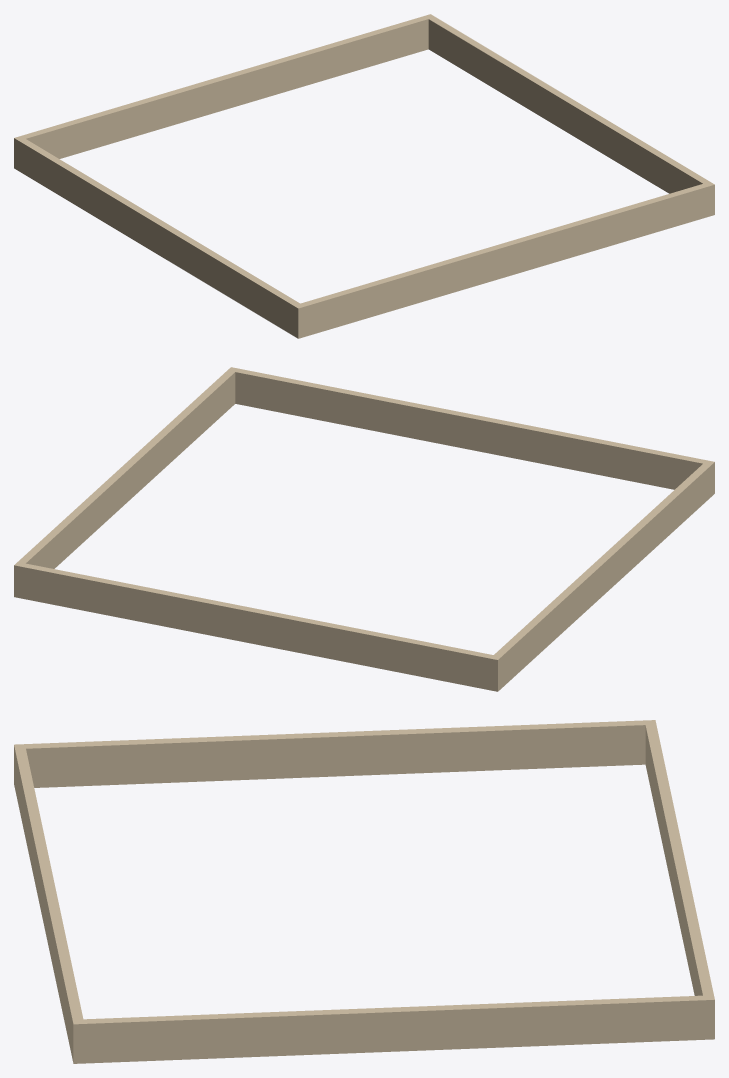
3 renders of one model, top to bottom at view 1: azimuth 30°, elevation 25°; view 2: azimuth 150°, elevation 25°; view 3: azimuth 270°, elevation 25°, orthographic. The views are drawn at different scales.
Visible parts, largest first — view 1: SM_f2fec4c0f10d71b01048; view 2: SM_f2fec4c0f10d71b01048; view 3: SM_f2fec4c0f10d71b01048.
Boxes of the visible parts, x1,y1,x2,y2 form: SM_f2fec4c0f10d71b01048: (14,14,714,338); SM_f2fec4c0f10d71b01048: (14,367,714,691); SM_f2fec4c0f10d71b01048: (14,720,714,1063).
Size of the model in its own units: 11.78 by 11.47 by 0.715.
